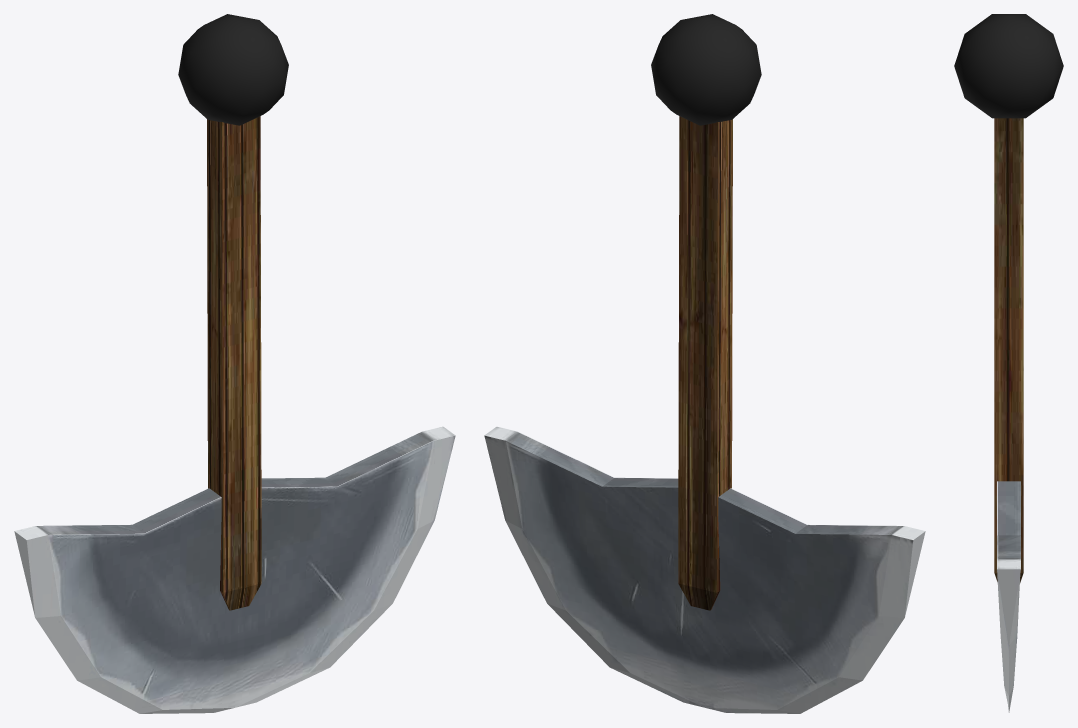
The picture shows the model from 3 angles, left to right: view 1: azimuth 30°, elevation 25°; view 2: azimuth 150°, elevation 25°; view 3: azimuth 270°, elevation 25°; orthographic projection. The views are drawn at different scales.
Parts seen in each view (by area): view 1: Giyotin_Axe, Giyotin_Base; view 2: Giyotin_Axe, Giyotin_Base; view 3: Giyotin_Axe, Giyotin_Base.
Boxes of the visible parts, x1,y1,x2,y2 form: Giyotin_Axe: (14,116,455,713); Giyotin_Base: (178,14,288,125); Giyotin_Axe: (484,116,925,713); Giyotin_Base: (651,14,761,125); Giyotin_Axe: (994,118,1023,712); Giyotin_Base: (954,14,1063,118).
Size of what is drawn, in the model's own units: 1.17 by 1.8 by 0.2672.
3 materials, 2 textured.
